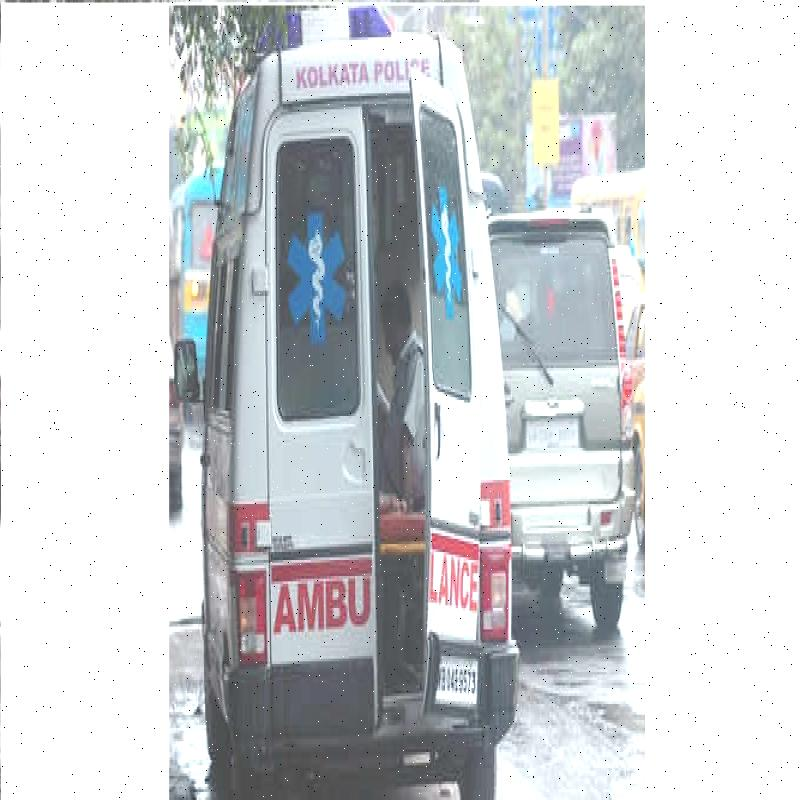ambulance: (219, 20, 512, 800)
